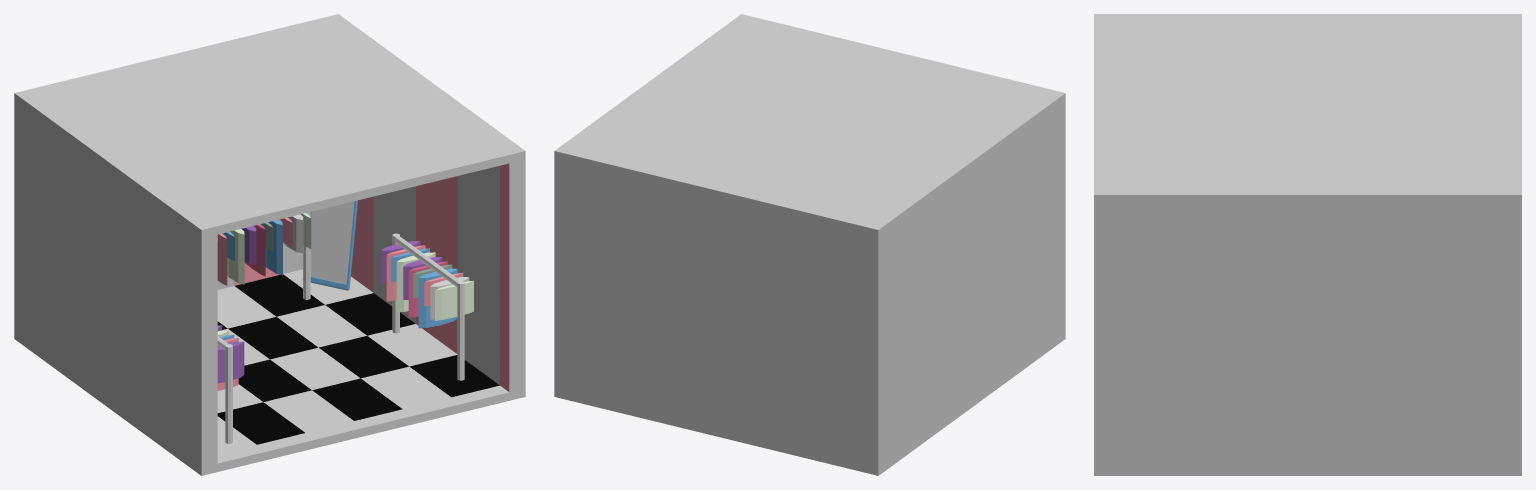
Rendered from mall walls.fbx.
3 views of the same model, side by side, from view 1: azimuth 30°, elevation 25°; view 2: azimuth 150°, elevation 25°; view 3: azimuth 270°, elevation 25° (orthographic). The views are drawn at different scales.
Visible parts, largest first — view 1: walls, Mirror.001, Cylinder.026, Cylinder.035, Cylinder.021, Cylinder.029, Cylinder.023, Cylinder.004, Cylinder.005, Cylinder.028, Cylinder.007; view 2: walls; view 3: walls.
Part boxes in pixels (left/top/right/bottom): walls: left=14, top=14, right=525, bottom=475; Mirror.001: left=302, top=200, right=357, bottom=290; Cylinder.026: left=392, top=233, right=464, bottom=380; Cylinder.035: left=435, top=280, right=473, bottom=320; Cylinder.021: left=217, top=336, right=232, bottom=443; Cylinder.029: left=418, top=268, right=457, bottom=328; Cylinder.023: left=217, top=341, right=244, bottom=383; Cylinder.004: left=227, top=229, right=244, bottom=284; Cylinder.005: left=265, top=219, right=282, bottom=275; Cylinder.028: left=396, top=252, right=435, bottom=311; Cylinder.007: left=244, top=224, right=265, bottom=276; walls: left=554, top=14, right=1065, bottom=475; walls: left=1094, top=14, right=1521, bottom=475.
Bounding box in the file's own units: 1000 × 725 × 1000.
